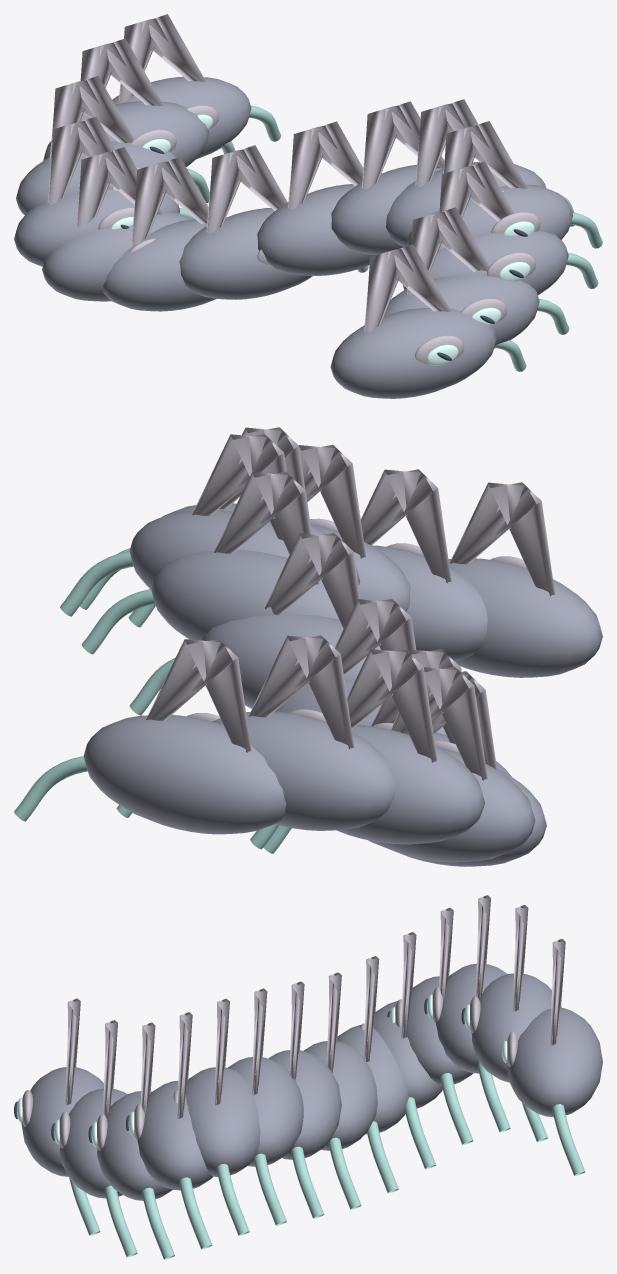
Rendered from bio_ribbon_colony_06_near.glb.
The picture shows the model from 3 angles, top to bottom: view 1: azimuth 30°, elevation 25°; view 2: azimuth 150°, elevation 25°; view 3: azimuth 270°, elevation 25°; orthographic projection. The views are drawn at different scales.
Visible parts, largest first — view 1: Overlapping folded ribbon, Overlapping folded ribbon.007, Overlapping folded ribbon.006, Overlapping folded ribbon.008, Overlapping folded ribbon.009, Raised pleated edge, Overlapping folded ribbon.005, Overlapping folded ribbon.001, Overlapping folded ribbon.010, Overlapping folded ribbon.002, Overlapping folded ribbon.013, Raised pleated edge.007 (+20 smaller); view 2: Overlapping folded ribbon.013, Overlapping folded ribbon.012, Overlapping folded ribbon, Overlapping folded ribbon.005, Overlapping folded ribbon.011, Overlapping folded ribbon.001, Raised pleated edge.012, Raised pleated edge, Raised pleated edge.013, Overlapping folded ribbon.010, Raised pleated edge.001, Raised pleated edge.011 (+18 smaller); view 3: Overlapping folded ribbon.013, Overlapping folded ribbon.004, Overlapping folded ribbon.003, Overlapping folded ribbon.012, Overlapping folded ribbon.005, Overlapping folded ribbon, Overlapping folded ribbon.006, Overlapping folded ribbon.007, Overlapping folded ribbon.002, Overlapping folded ribbon.001, Overlapping folded ribbon.011, Overlapping folded ribbon.008 (+29 smaller).
Part boxes in pixels (box(x1,y1,x2,y2)): Overlapping folded ribbon: box(330, 308, 496, 398); Overlapping folded ribbon.007: box(179, 208, 312, 299); Overlapping folded ribbon.006: box(257, 184, 374, 275); Overlapping folded ribbon.008: box(103, 219, 215, 311); Overlapping folded ribbon.009: box(42, 211, 193, 301); Raised pleated edge: box(364, 244, 464, 364); Overlapping folded ribbon.005: box(331, 164, 441, 255); Overlapping folded ribbon.001: box(384, 275, 539, 348); Overlapping folded ribbon.010: box(14, 189, 180, 266); Overlapping folded ribbon.002: box(403, 231, 568, 295); Overlapping folded ribbon.013: box(112, 76, 251, 159); Raised pleated edge.007: box(206, 145, 287, 265); Overlapping folded ribbon.013: box(83, 715, 286, 834); Overlapping folded ribbon.012: box(212, 711, 395, 830); Overlapping folded ribbon: box(448, 558, 602, 677); Overlapping folded ribbon.005: box(151, 550, 338, 640); Overlapping folded ribbon.011: box(337, 725, 484, 844); Overlapping folded ribbon.001: box(372, 545, 487, 661); Raised pleated edge.012: box(249, 635, 354, 749); Raised pleated edge: box(450, 482, 554, 595); Raised pleated edge.013: box(146, 639, 251, 752); Overlapping folded ribbon.010: box(368, 747, 535, 862); Raised pleated edge.001: box(360, 469, 451, 583); Raised pleated edge.011: box(347, 649, 437, 762); Overlapping folded ribbon.013: box(507, 1007, 602, 1117); Overlapping folded ribbon.004: box(185, 1067, 260, 1176); Overlapping folded ribbon.003: box(137, 1080, 212, 1190); Overlapping folded ribbon.012: box(471, 973, 561, 1082); Overlapping folded ribbon.005: box(228, 1057, 303, 1166); Overlapping folded ribbon: box(21, 1067, 103, 1176); Overlapping folded ribbon.006: box(268, 1050, 341, 1159); Overlapping folded ribbon.007: box(303, 1041, 377, 1150); Overlapping folded ribbon.002: box(97, 1091, 172, 1200); Overlapping folded ribbon.001: box(59, 1088, 126, 1198); Overlapping folded ribbon.011: box(436, 963, 507, 1073); Overlapping folded ribbon.008: box(337, 1025, 409, 1134).
Bounding box in the file's own units: 2.82 × 1.3 × 3.04.
